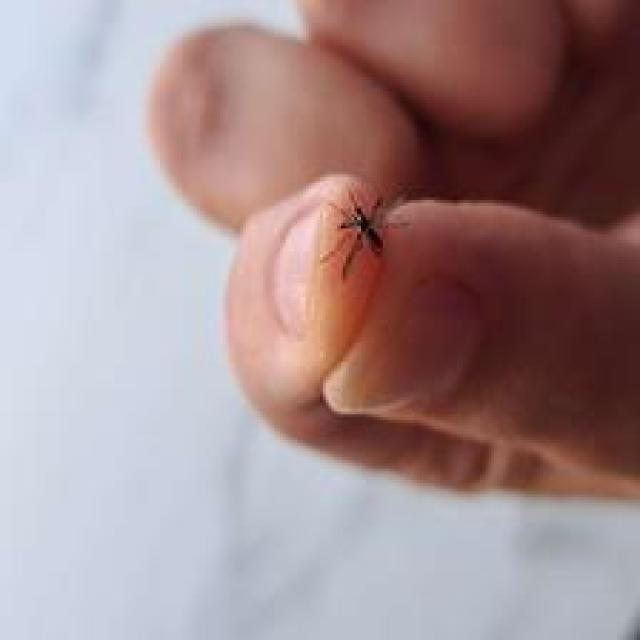Aedes albopictus: (317, 187, 412, 282)
